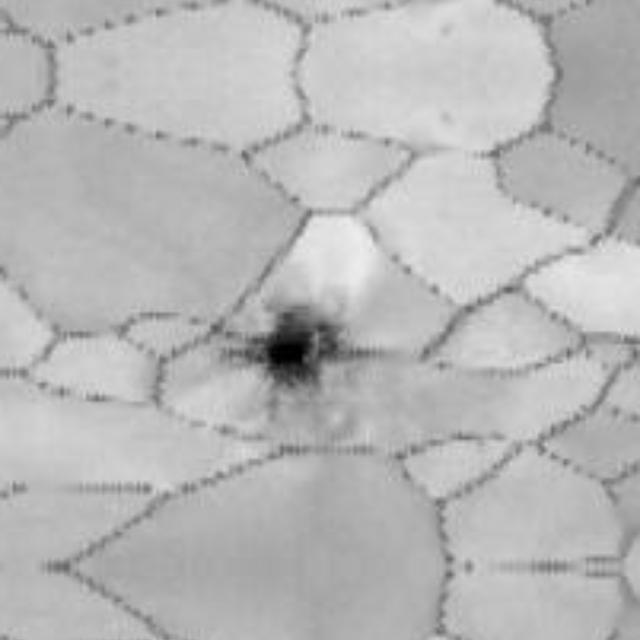good_void: (216, 298, 351, 393)
